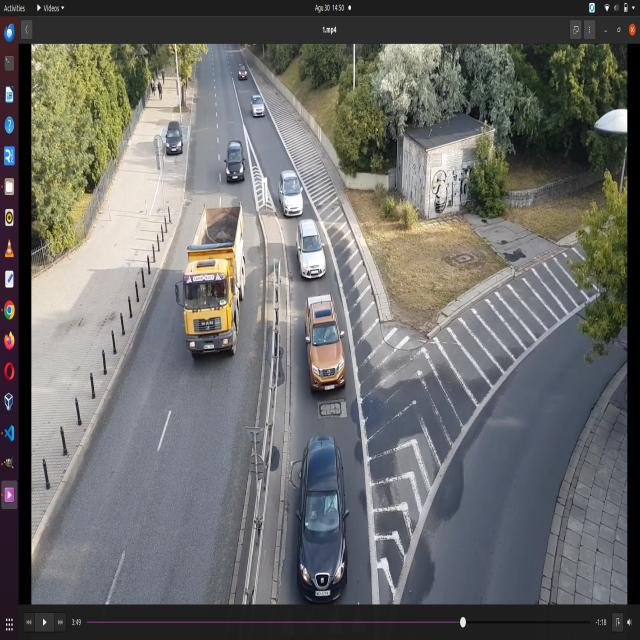person_with_seatbelt: (324, 491, 339, 518), (324, 326, 340, 341)
